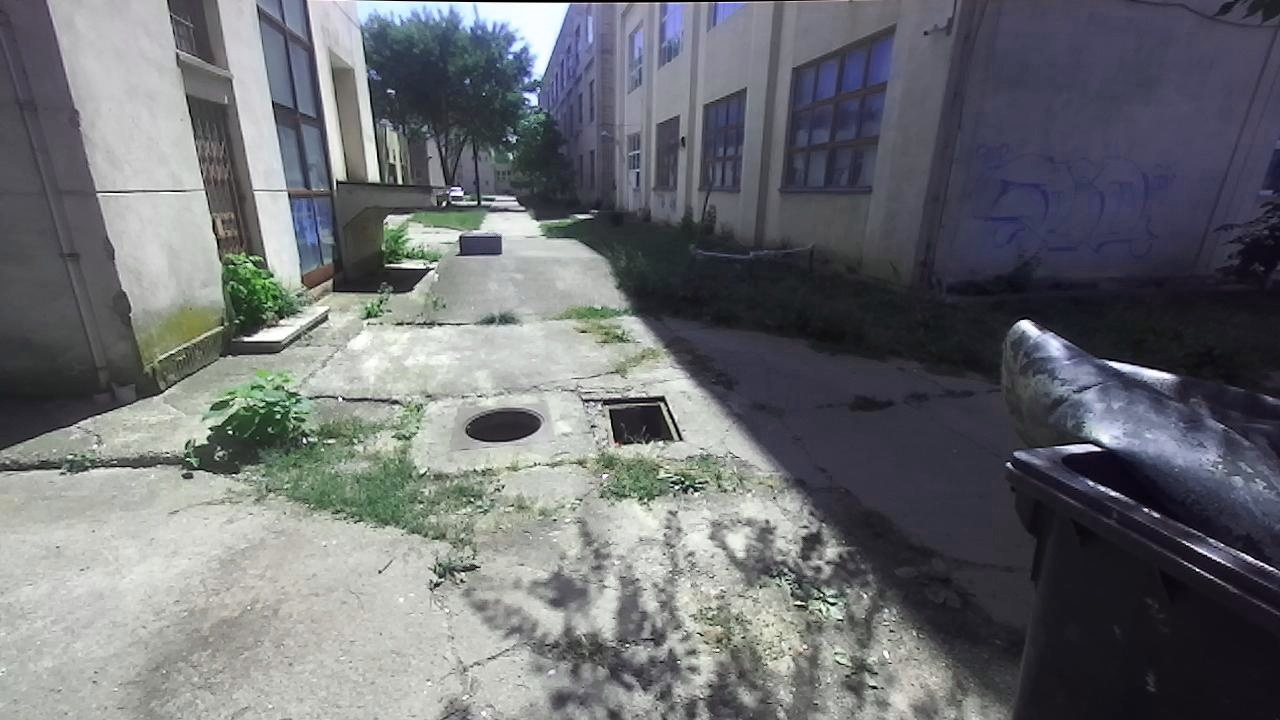drain: (602, 394, 685, 443), (459, 402, 548, 441)
